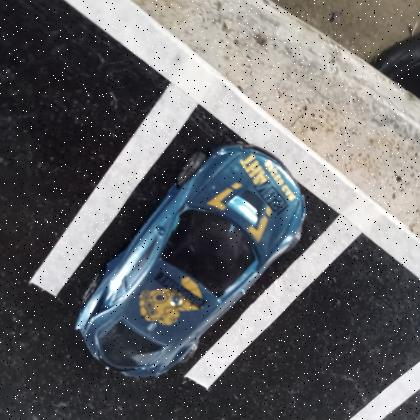Car: (74, 142, 307, 378)
